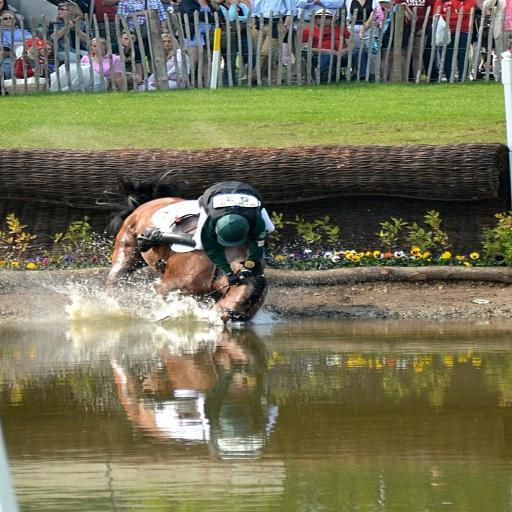horse: (100, 170, 272, 326)
